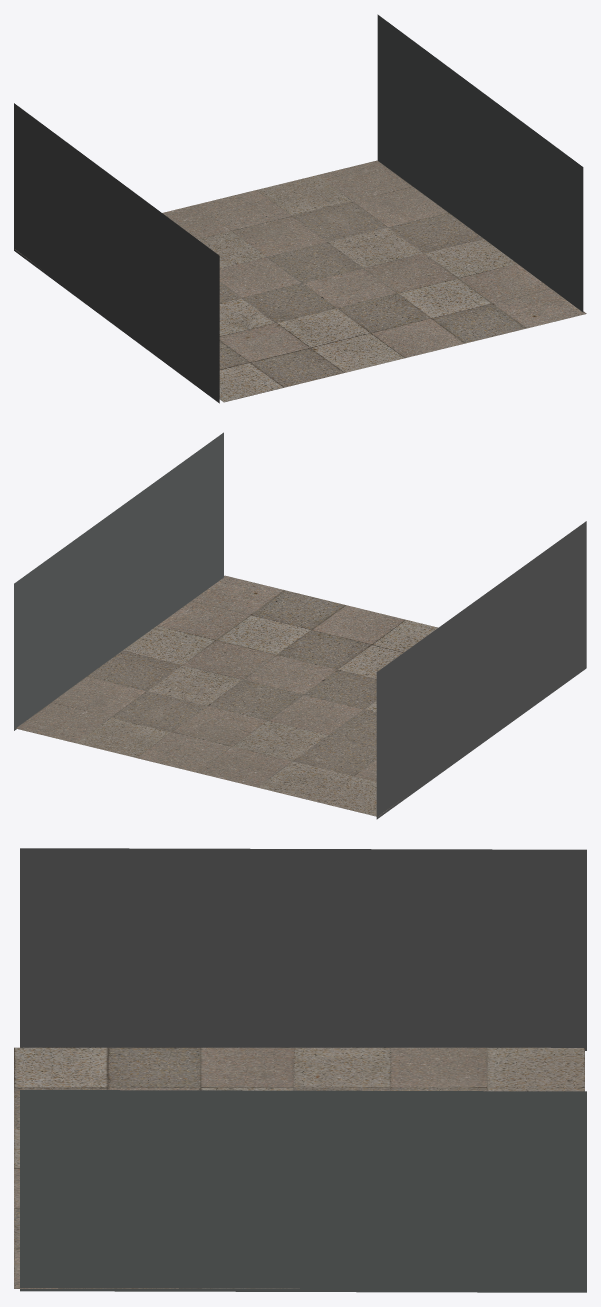
The picture shows the model from 3 angles, top to bottom: view 1: azimuth 30°, elevation 25°; view 2: azimuth 150°, elevation 25°; view 3: azimuth 270°, elevation 25°; orthographic projection. The views are drawn at different scales.
Visible parts, largest first — view 1: Plane, Plane.002, Plane.001; view 2: Plane, Plane.002, Plane.001; view 3: Plane.001, Plane.002, Plane.
Part boxes in pixels (x1,y1,x2,y2): Plane: [14, 160, 586, 402]; Plane.002: [14, 103, 219, 403]; Plane.001: [377, 14, 583, 312]; Plane: [16, 575, 437, 816]; Plane.002: [376, 521, 586, 819]; Plane.001: [14, 432, 223, 730]; Plane.001: [20, 1090, 586, 1292]; Plane.002: [20, 848, 586, 1050]; Plane: [14, 1047, 584, 1288].
Bounding box in the file's own units: 20.16 × 7.78 × 20.07.
3 materials, 1 textured.
